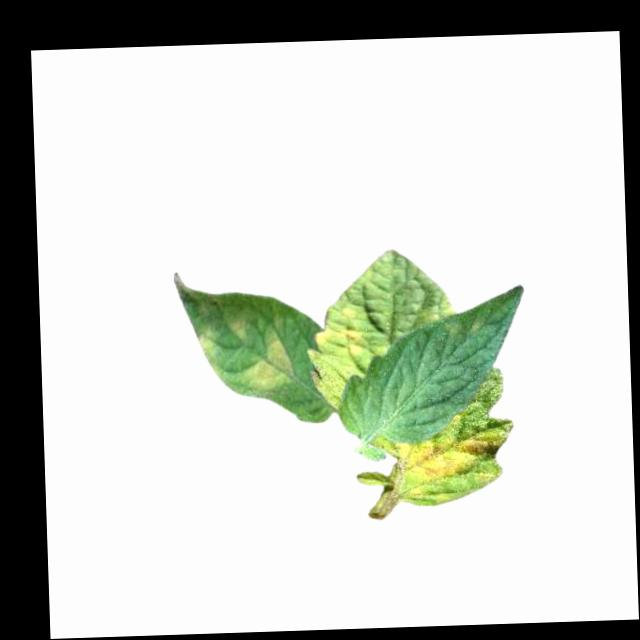Leaf_Mold: (367, 411, 514, 507), (239, 318, 295, 388), (310, 301, 367, 359)
